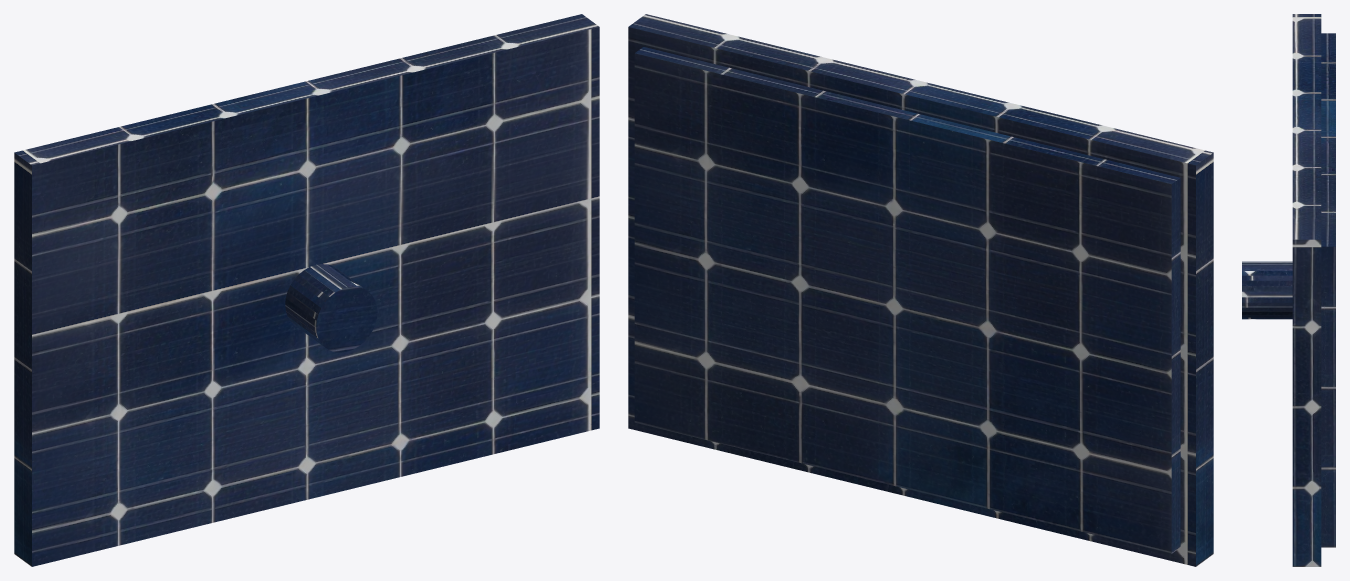
File: solar_panel_2x1.glb
3 renders of one model, left to right at view 1: azimuth 30°, elevation 25°; view 2: azimuth 150°, elevation 25°; view 3: azimuth 270°, elevation 25°, orthographic. The views are drawn at different scales.
Parts seen in each view (by area): view 1: Cube; view 2: Cube; view 3: Cube.
Part boxes in pixels (left/top/right/bottom): Cube: left=14, top=14, right=599, bottom=566; Cube: left=628, top=14, right=1213, bottom=566; Cube: left=1242, top=14, right=1335, bottom=566.
Size of the model in its own units: 0.37 by 0.25 by 0.065.
1 material, 1 textured.
